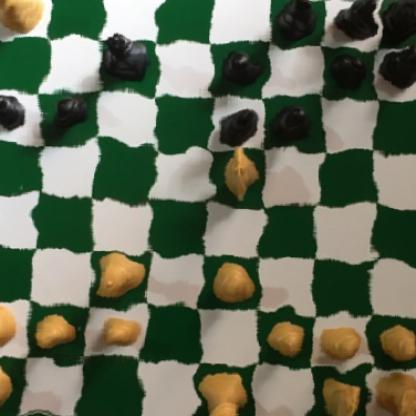black-bishop: (211, 104, 261, 149), (268, 0, 317, 42)
black-king: (96, 22, 153, 85)
black-knight: (331, 0, 382, 46)
black-pawn: (47, 92, 91, 141), (264, 108, 315, 150), (327, 52, 372, 99), (218, 46, 261, 92), (381, 43, 416, 89), (0, 92, 31, 135)
black-rook: (379, 0, 416, 49)
white-bishop: (0, 0, 43, 36)
white-king: (195, 368, 250, 416)
white-knight: (213, 144, 259, 204), (316, 372, 363, 416)
white-pawn: (93, 310, 146, 350), (33, 310, 82, 352), (208, 263, 254, 307), (316, 323, 363, 365), (265, 318, 309, 362), (381, 323, 416, 363), (0, 300, 22, 345)
white-queen: (92, 250, 145, 301)
white-rook: (370, 364, 416, 416), (0, 361, 14, 416)
